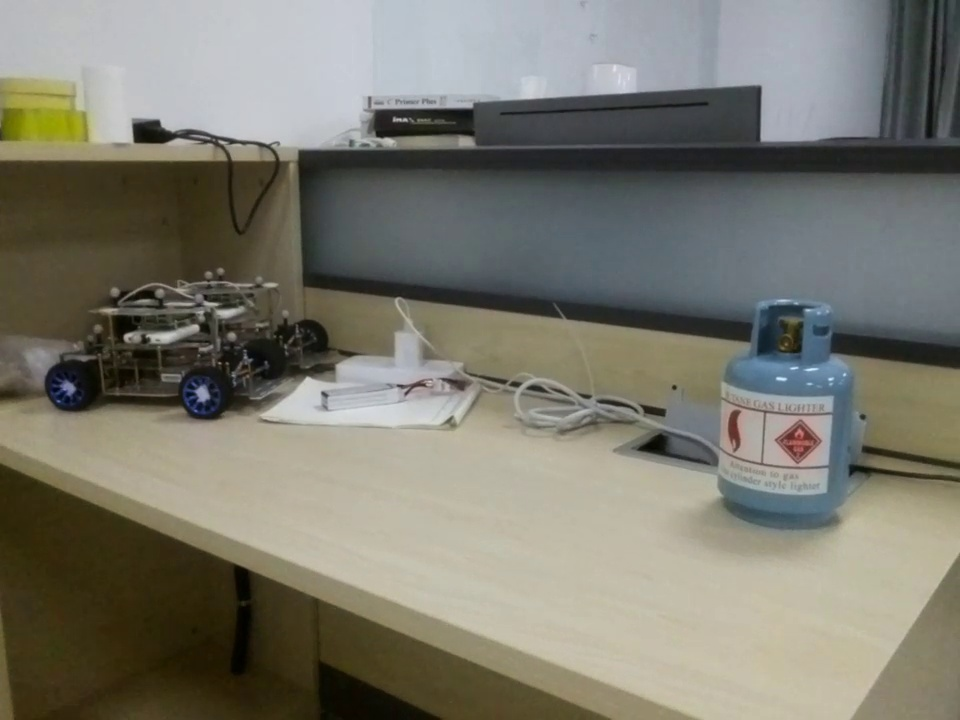gas tank: (715, 287, 864, 536)
